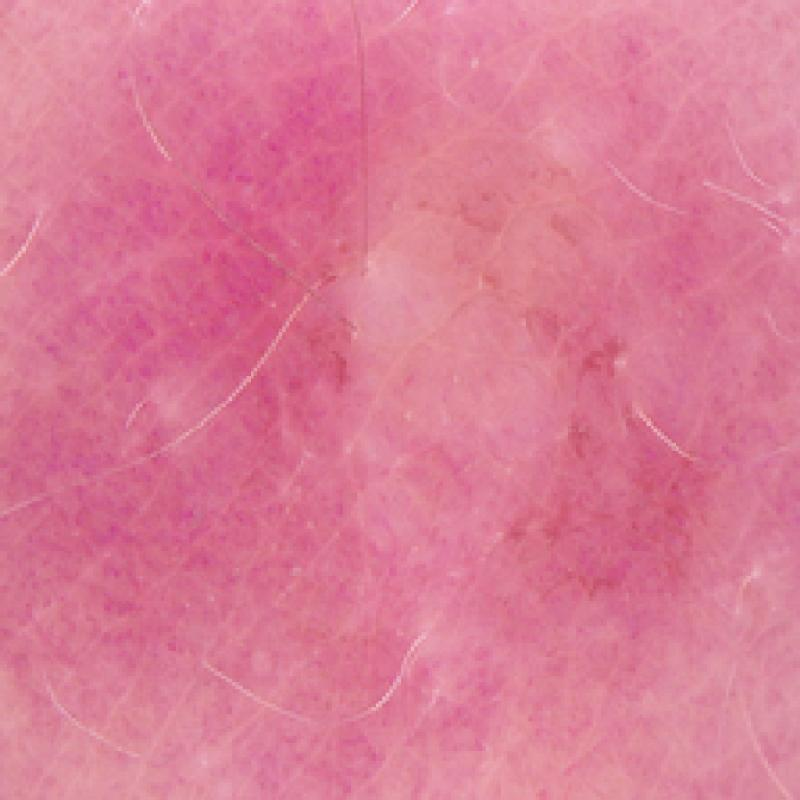benign: (2, 3, 800, 800)
